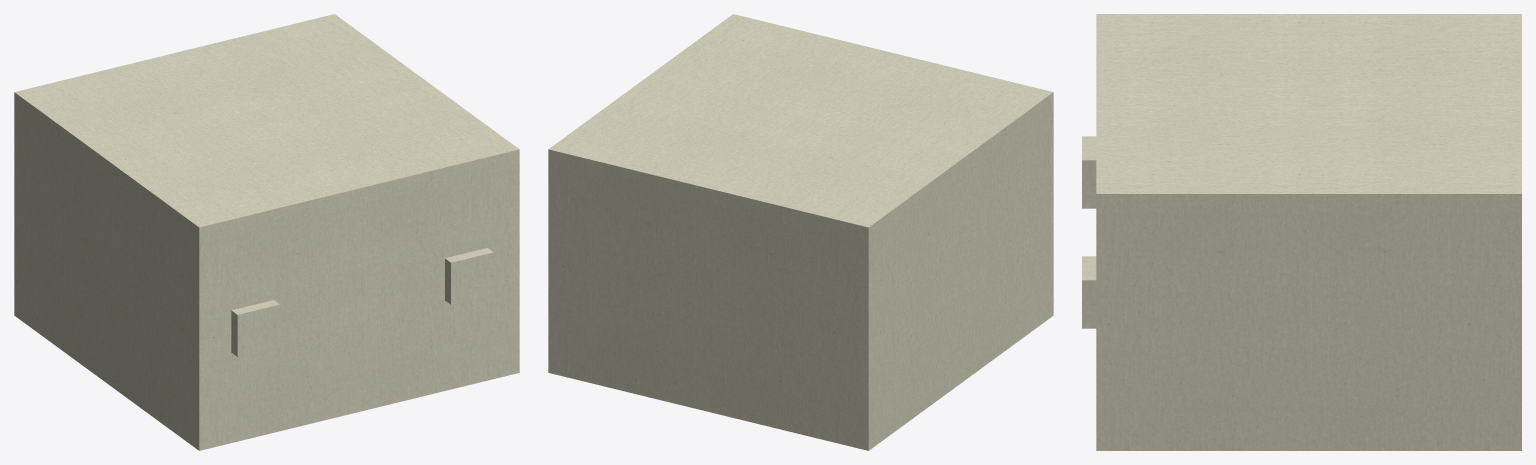
Rendered from roomEmpty.FBX.
3 renders of one model, left to right at view 1: azimuth 30°, elevation 25°; view 2: azimuth 150°, elevation 25°; view 3: azimuth 270°, elevation 25°, orthographic. The views are drawn at different scales.
Parts seen in each view (by area): view 1: room; view 2: room; view 3: room.
Boxes of the visible parts, x1,y1,x2,y2 form: room: (14,14,519,450); room: (548,14,1053,450); room: (1082,14,1521,450).
Bounding box in the file's own units: 304 × 202 × 314.
2 materials, 2 textured.
